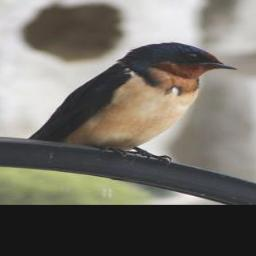Swallow: (24, 41, 240, 166)
